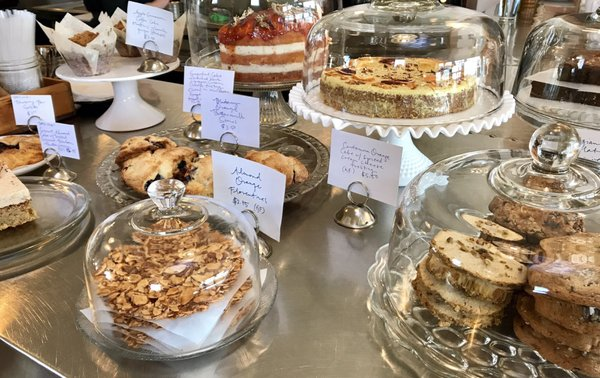curry: (2, 10, 596, 372)
sushi: (318, 55, 483, 119), (216, 3, 320, 86), (114, 135, 204, 197), (0, 166, 38, 231), (0, 132, 47, 175)
